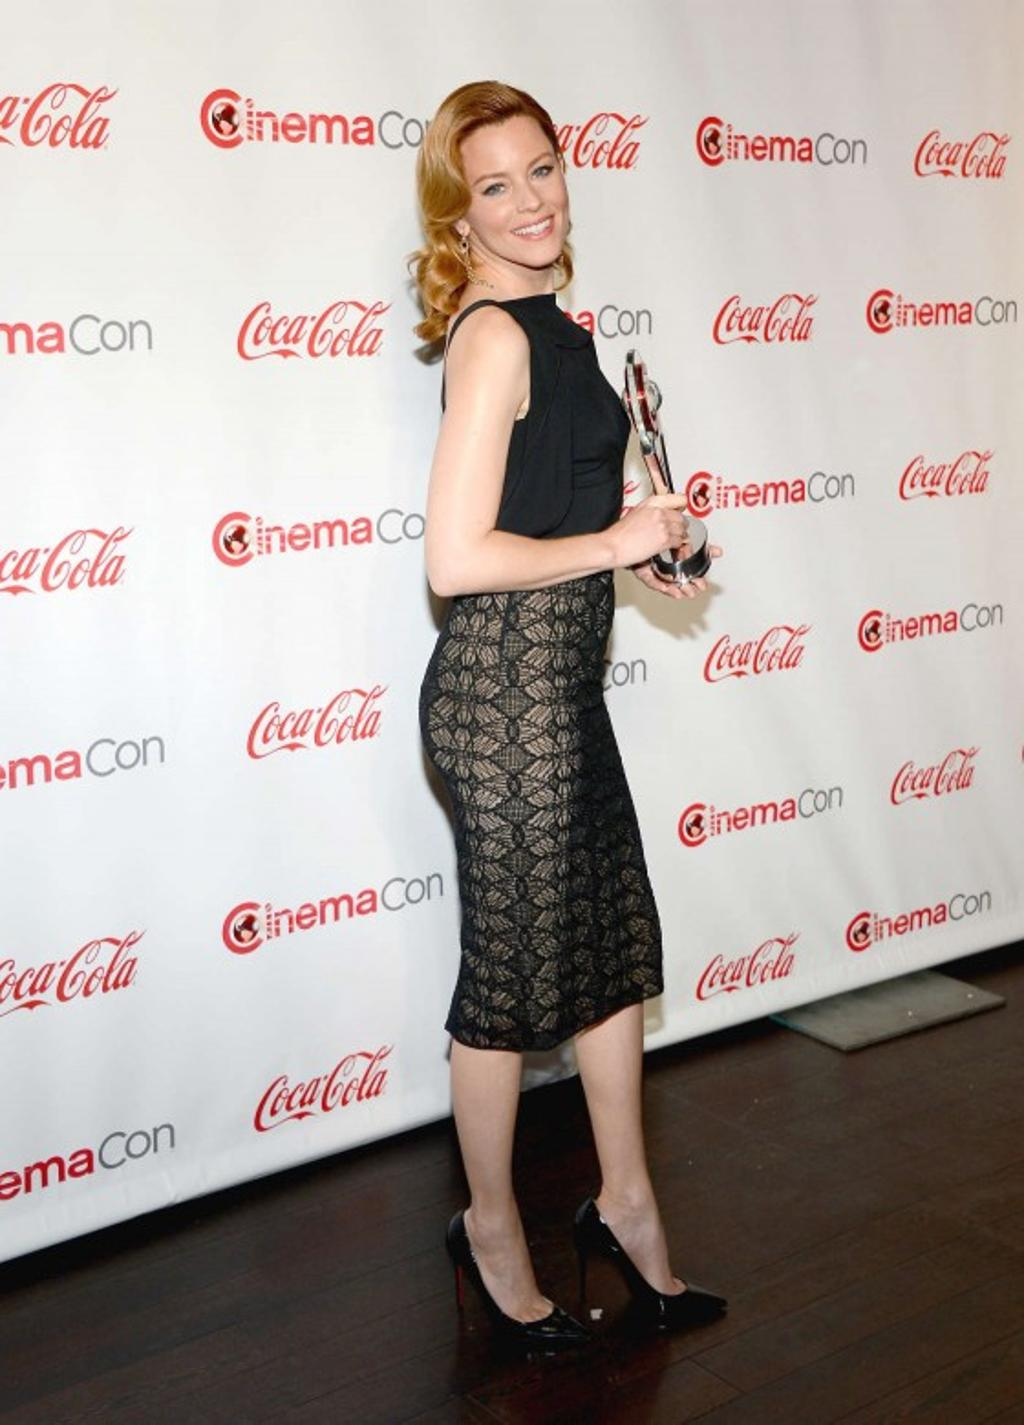face: (459, 111, 570, 264)
